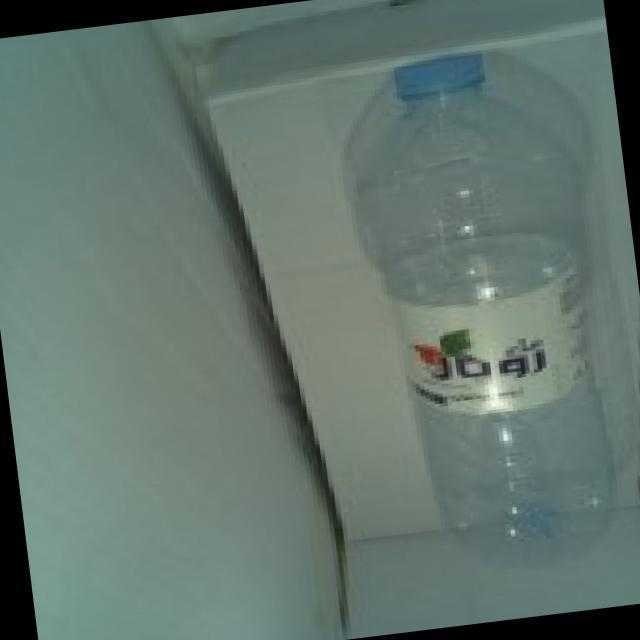good: (296, 21, 640, 603)
